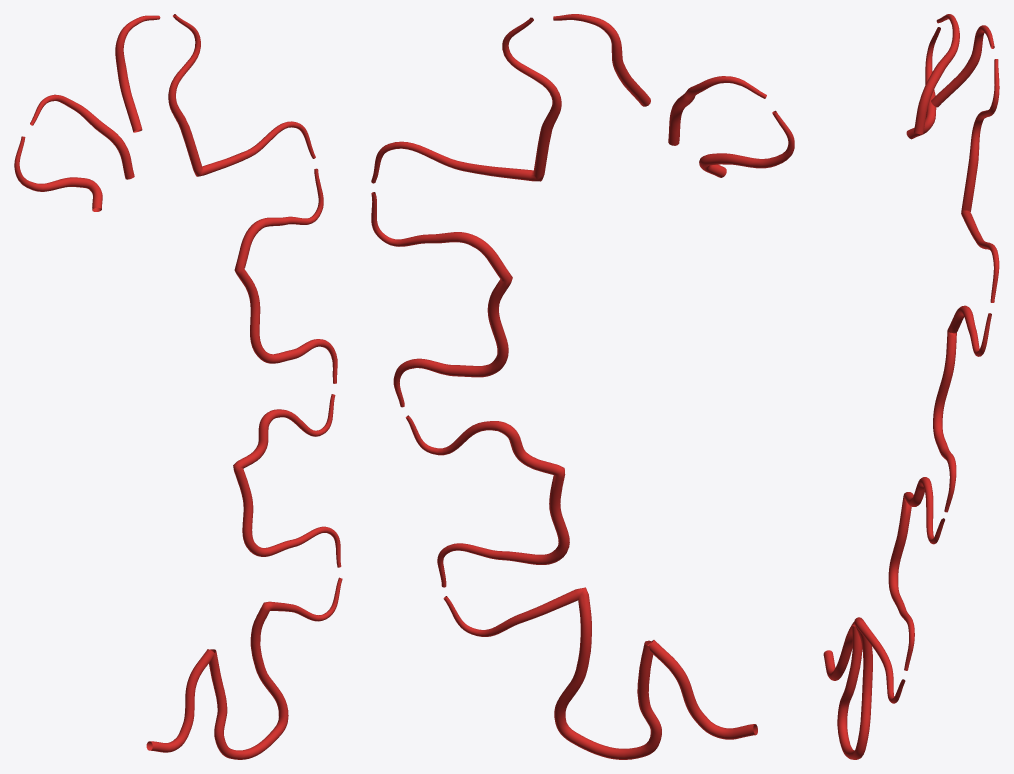
File: circulatorio-intrarenal-arteries-of-left-kidney.glb
3 renders of one model, left to right at view 1: azimuth 30°, elevation 25°; view 2: azimuth 150°, elevation 25°; view 3: azimuth 270°, elevation 25°, orthographic. The views are drawn at different scales.
Parts seen in each view (by area): view 1: Intrarenal arteries of left kidney; view 2: Intrarenal arteries of left kidney; view 3: Intrarenal arteries of left kidney.
Part boxes in pixels (x1,y1,x2,y2): Intrarenal arteries of left kidney: (14,14,342,759); Intrarenal arteries of left kidney: (371,14,794,759); Intrarenal arteries of left kidney: (823,14,999,759).
Bounding box in the file's own units: 0.0398 × 0.0793 × 0.018.
